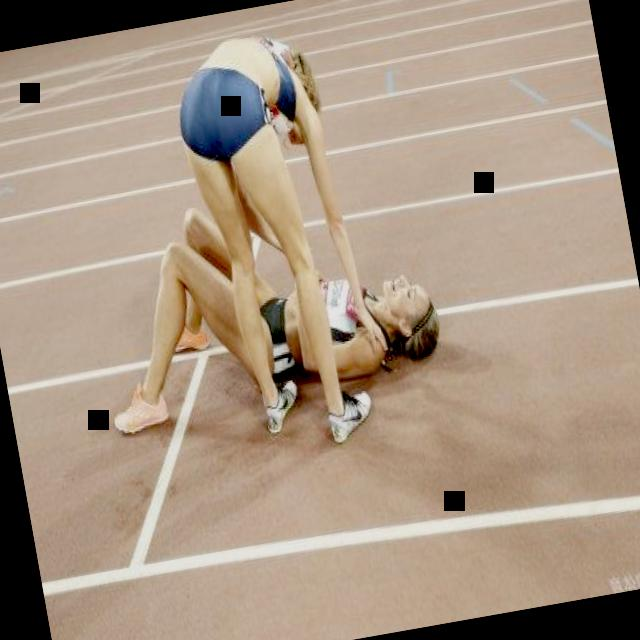Fall-Detected: (74, 167, 450, 447)
